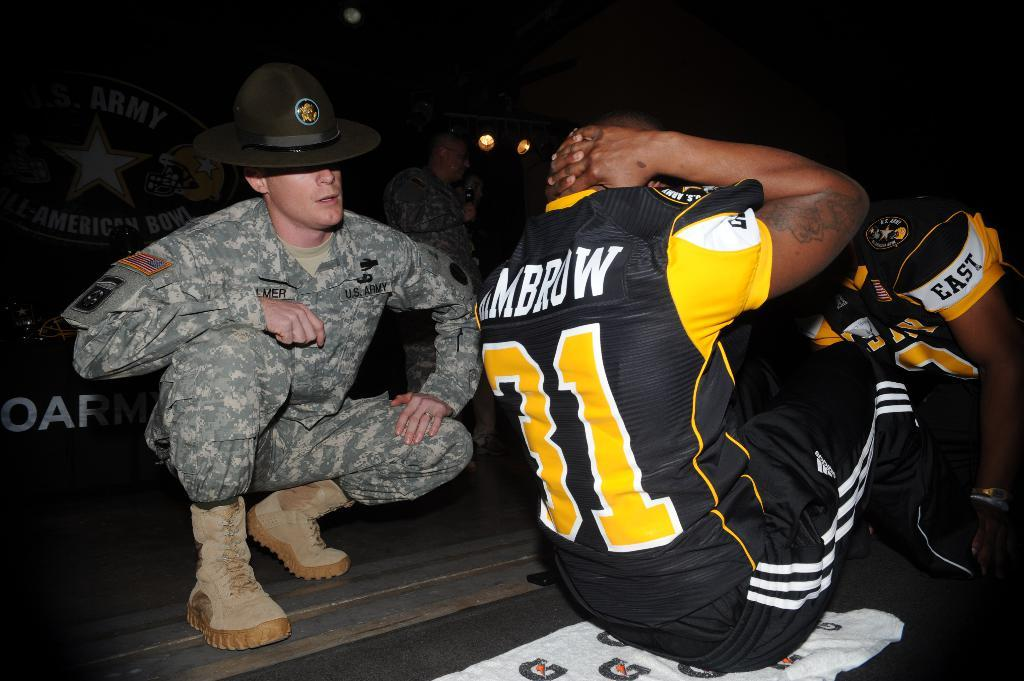Hat: (189, 64, 379, 170)
